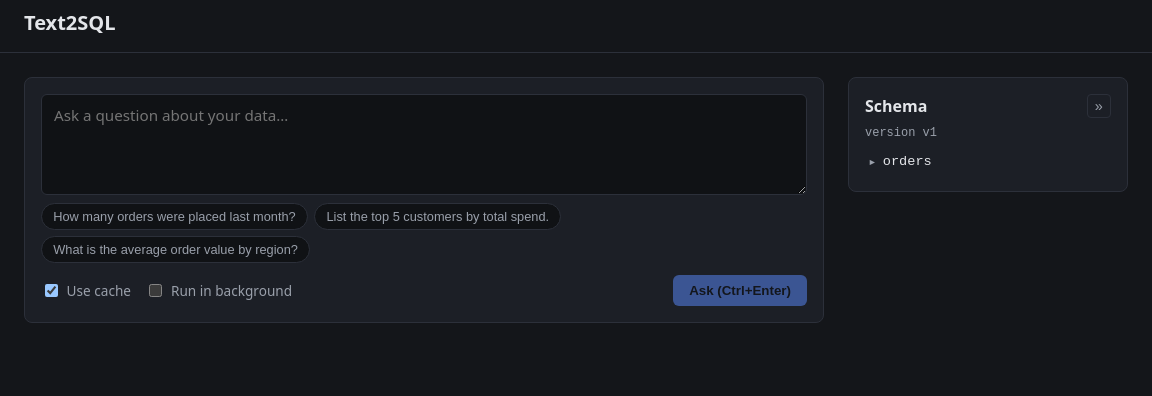
Test: App › shows the job's error when a background job fails
Type "anything" into the text box with placeholder "Ask a question about your data…" at (424, 145), box [41,94,807,195]
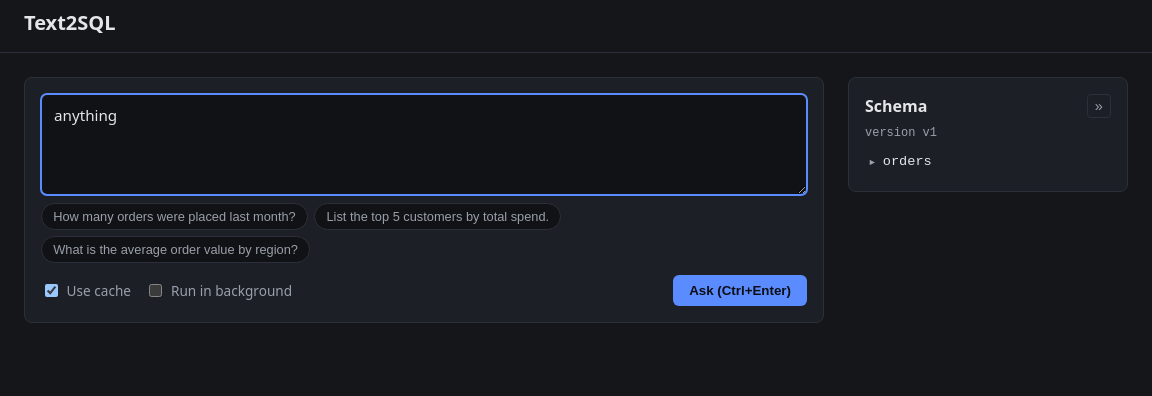
Click the checkbox labelled "Run in background" at (156, 290), box [149,284,162,297]
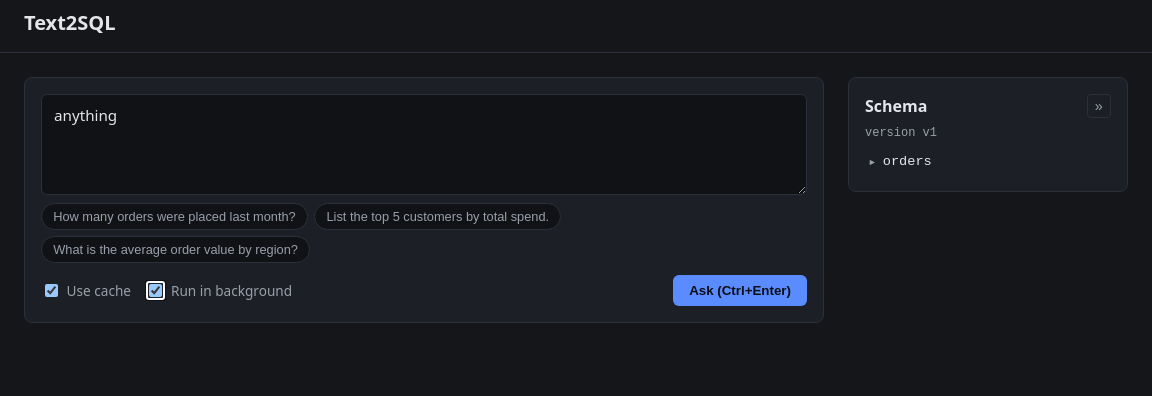
Click the button "Ask (Ctrl+Enter)" at (740, 290), box [673,275,807,306]
Wait 1000 ms
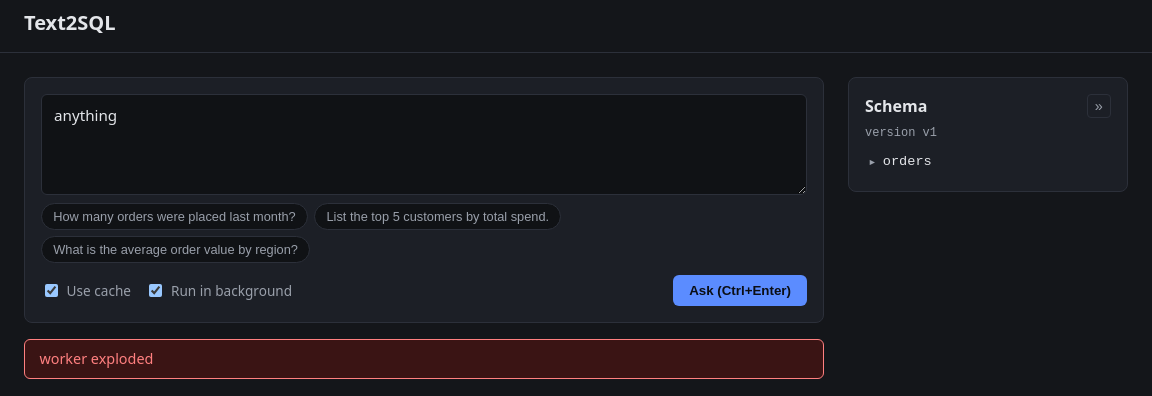
Check: the message reads "worker exploded", box [39,349,153,368]
